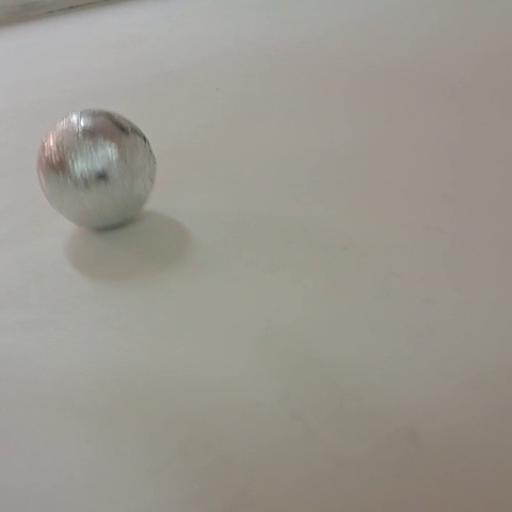alive: (35, 108, 159, 232)
